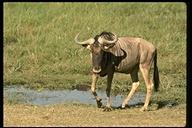antelope: (73, 30, 162, 113)
grass: (6, 6, 72, 76)
water: (6, 86, 87, 102)
